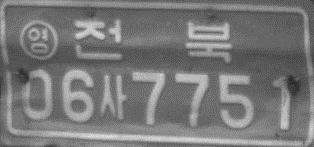0: (20, 68, 54, 122)
1: (267, 75, 301, 129)
5: (218, 73, 255, 129)
6: (60, 68, 96, 124)
7: (173, 71, 210, 127), (130, 70, 165, 126)
사: (99, 75, 127, 120)
영: (18, 19, 59, 61)
전북_D: (72, 20, 233, 62)
